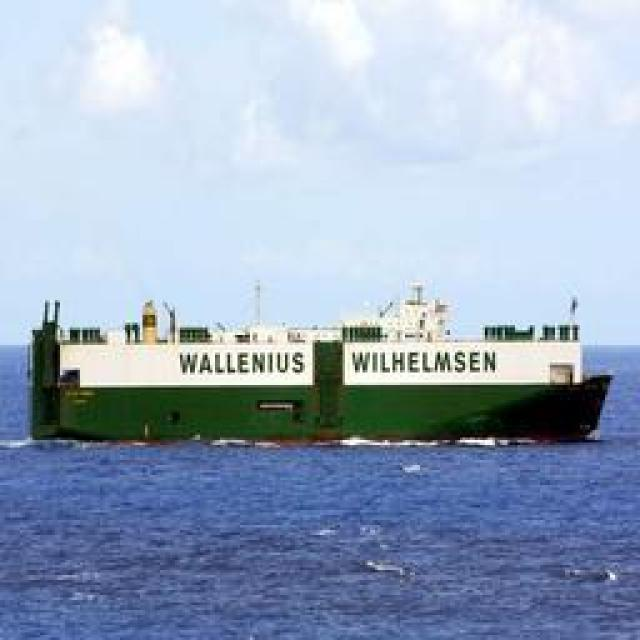CIV_Ship: (31, 292, 609, 440)
